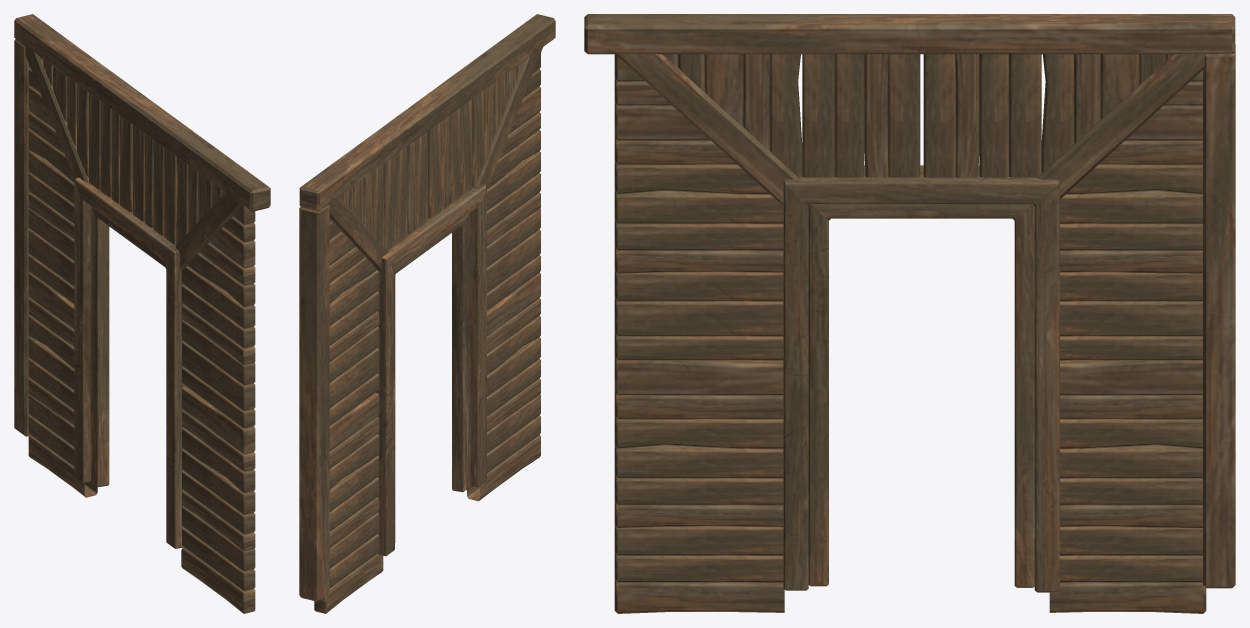
Rendered from SM_wall_wood_03.fbx.
3 views of the same model, side by side, from view 1: azimuth 30°, elevation 25°; view 2: azimuth 150°, elevation 25°; view 3: azimuth 270°, elevation 25° (orthographic). The views are drawn at different scales.
Parts seen in each view (by area): view 1: SM_wall_wood_03_LOD0; view 2: SM_wall_wood_03_LOD0; view 3: SM_wall_wood_03_LOD0.
Part boxes in pixels (x1,y1,x2,y2): SM_wall_wood_03_LOD0: [14, 14, 270, 613]; SM_wall_wood_03_LOD0: [299, 14, 555, 613]; SM_wall_wood_03_LOD0: [584, 14, 1235, 613].
Bounding box in the file's own units: 26.73 × 400 × 401.
1 material, 1 textured.
